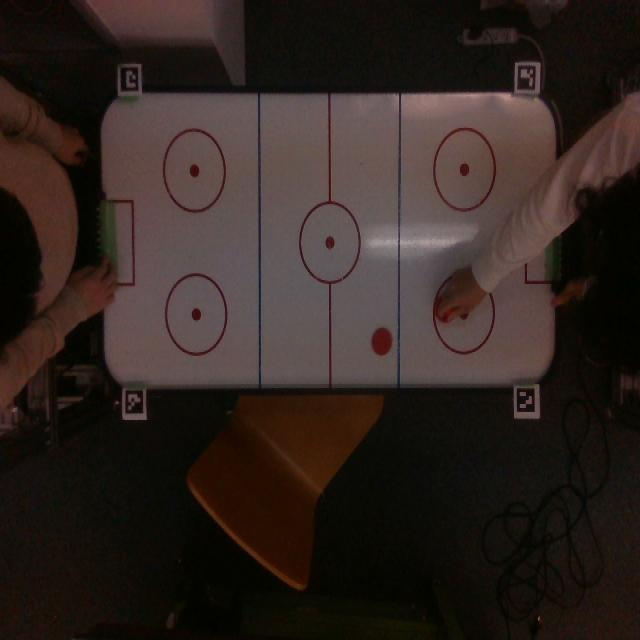puck: (372, 328, 392, 355)
